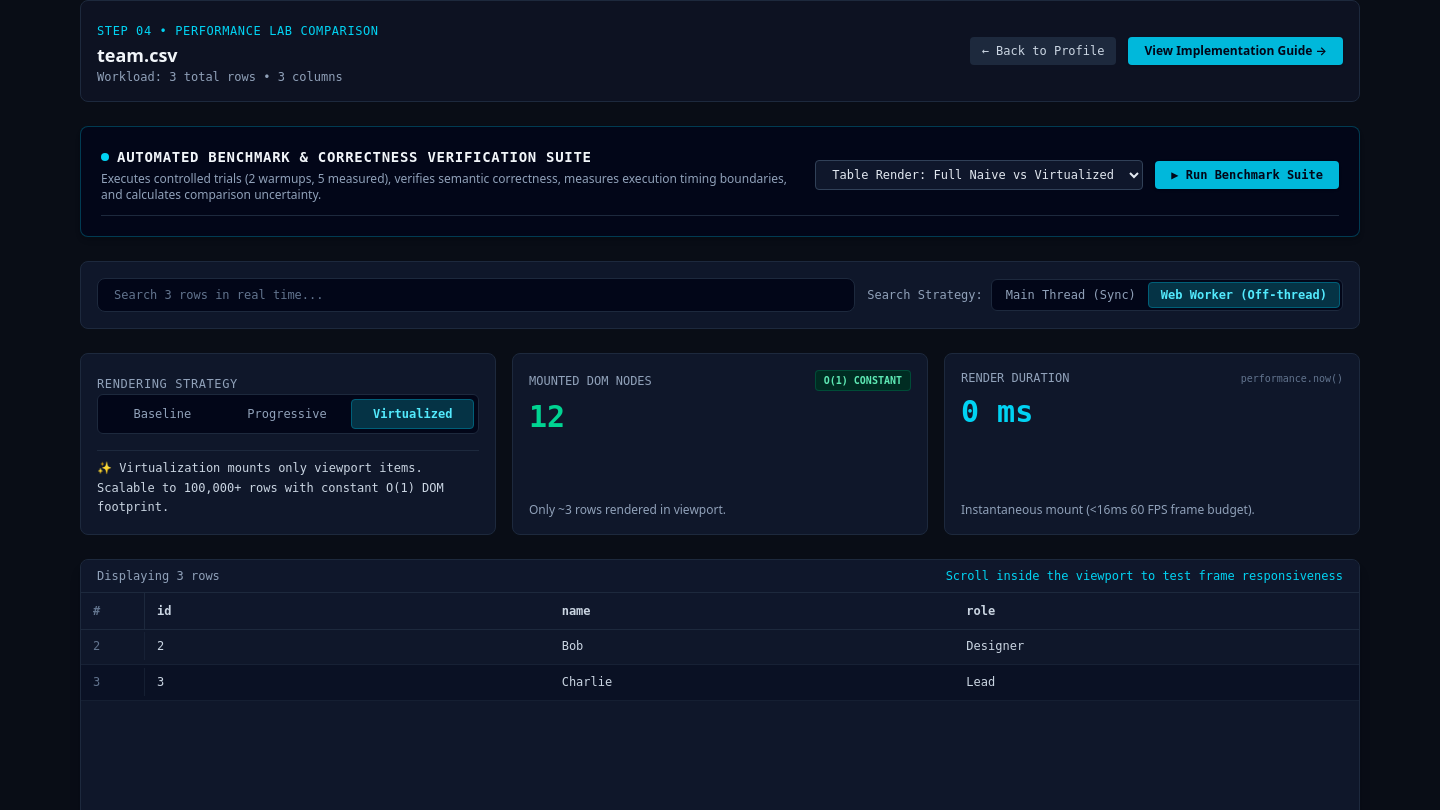
Scenario: DatasetCompareLab › allows toggling between baseline, progressive, and virtualized modes
// Baseline mode
Click the button "Baseline".
click(162, 414)  # box [102,399,223,429]
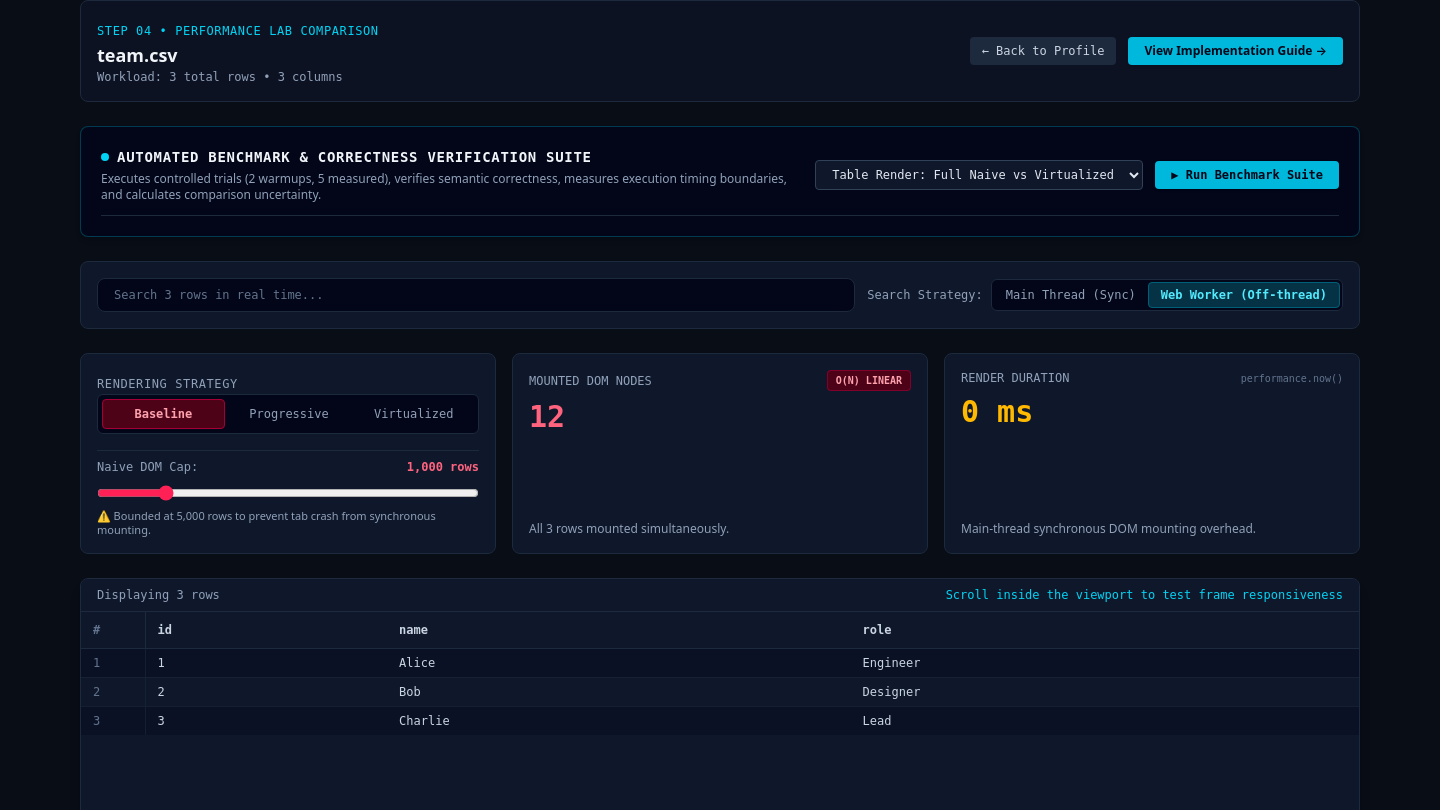
expect the text "O(N) Linear" is shown: met, box [827,370,911,391]
expect the text "Naive DOM Cap:" is shown: met, box [97,459,198,475]
// Progressive chunking mode
Click the button "Progressive".
click(289, 414)  # box [229,399,349,429]
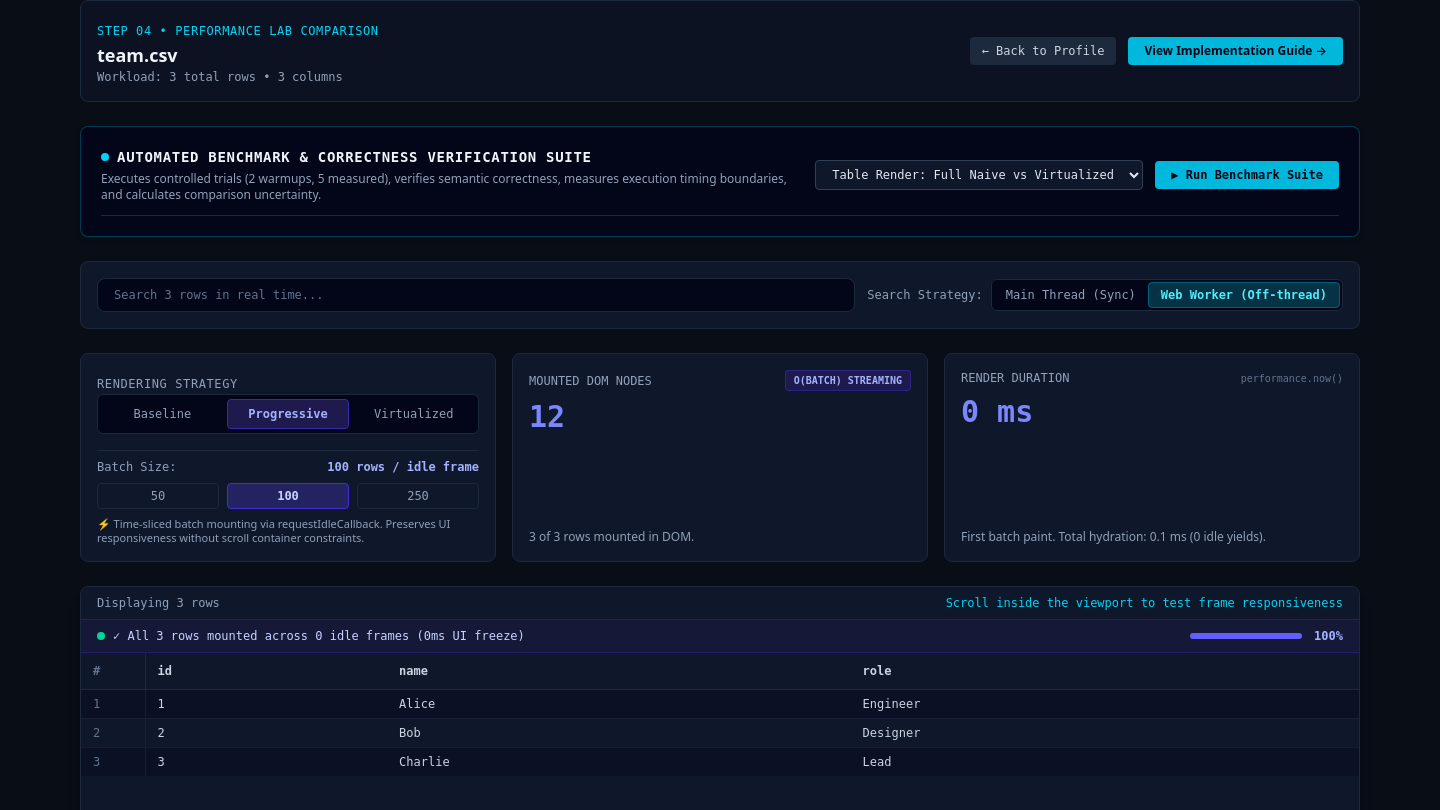
expect the text "O(Batch) Streaming" is shown: met, box [785,370,911,391]
expect the text "Batch Size:" is shown: met, box [97,459,176,475]
// Virtualized mode
Click the button "Virtualized".
click(414, 414)  # box [353,399,474,429]
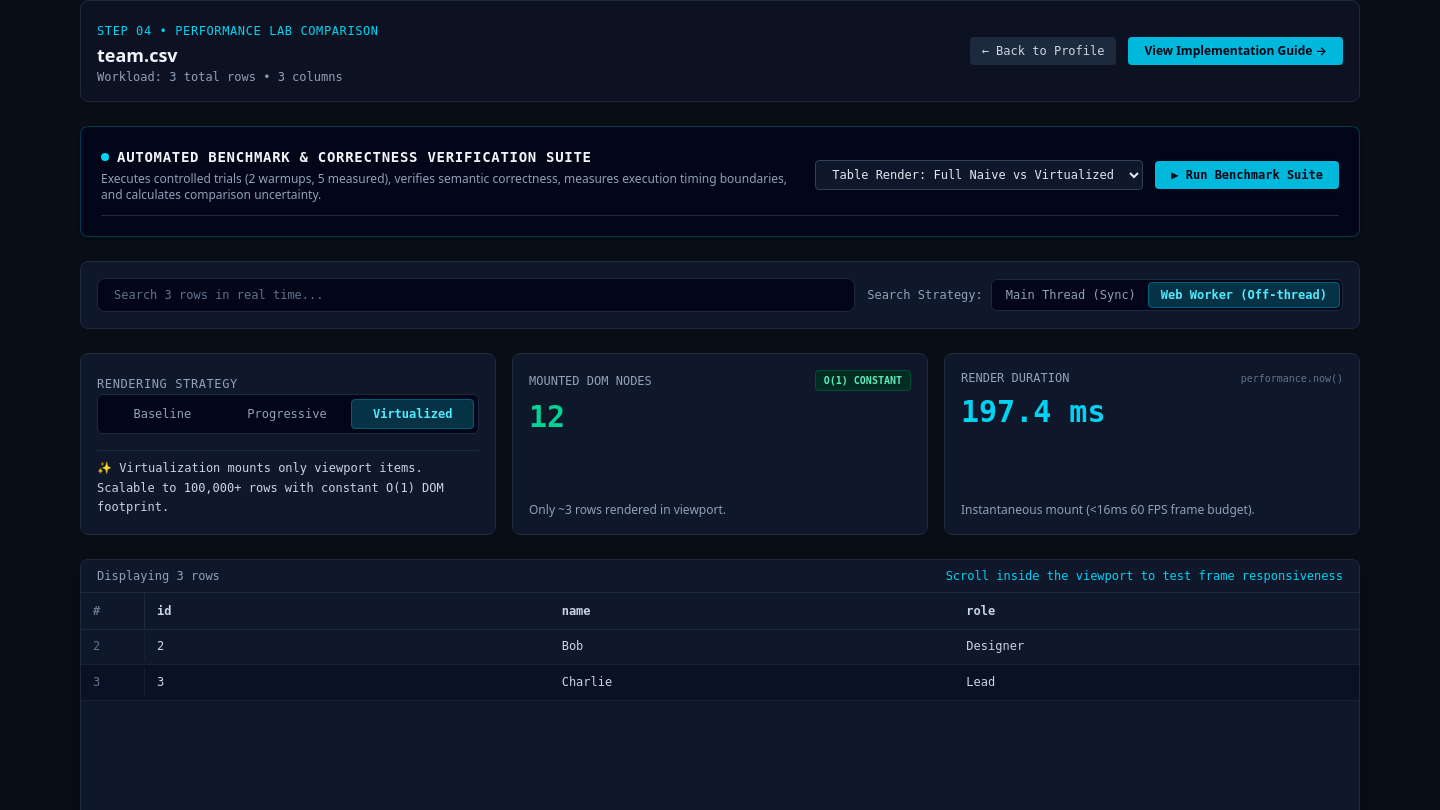
expect the text "O(1) Constant" is shown: met, box [815,370,911,391]
